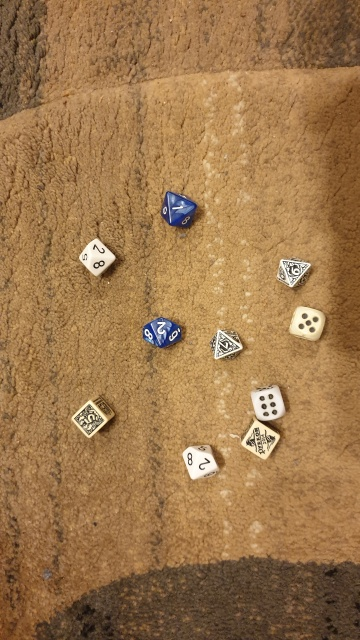d10-1: (155, 184, 203, 237)
d10-2: (174, 436, 226, 488), (137, 311, 191, 352)
d10-8: (74, 239, 119, 278)
d6-5: (288, 303, 327, 342)
d6-6: (247, 382, 291, 423)
d6p-1: (238, 419, 284, 464)
d6p-5: (64, 394, 118, 441)
d8p-6: (272, 252, 314, 293)
d8p-7: (206, 325, 248, 366)
